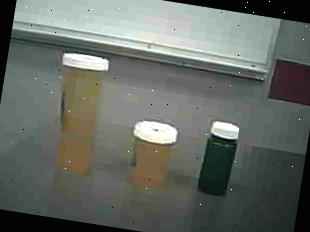Bottle A: (35, 45, 123, 184)
Bottle B: (121, 113, 184, 199)
Bottle C: (190, 114, 248, 210)
